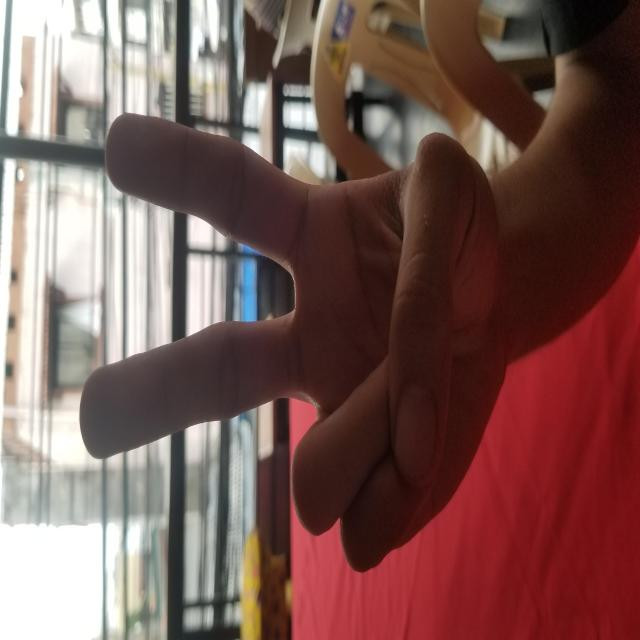V: (59, 75, 532, 510)
